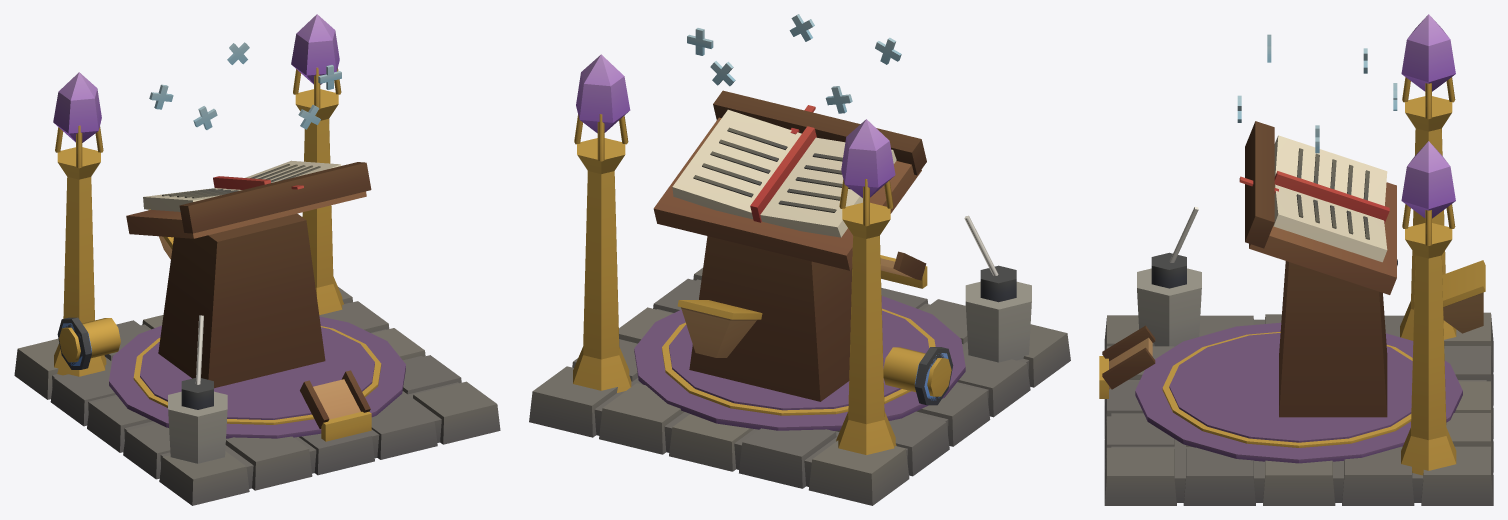
Rendered from mach_enchanter.glb.
3 views of the same model, side by side, from view 1: azimuth 30°, elevation 25°; view 2: azimuth 150°, elevation 25°; view 3: azimuth 270°, elevation 25° (orthographic). The views are drawn at different scales.
Parts seen in each view (by area): view 1: mach_enchanter; view 2: mach_enchanter; view 3: mach_enchanter.
Part boxes in pixels (left/top/right/bottom): mach_enchanter: left=14, top=14, right=500, bottom=505; mach_enchanter: left=529, top=14, right=1070, bottom=505; mach_enchanter: left=1099, top=14, right=1493, bottom=505.
Size of the model in its own units: 5.77 by 5.71 by 5.77.
Materials: 1 (1 with a texture image).
